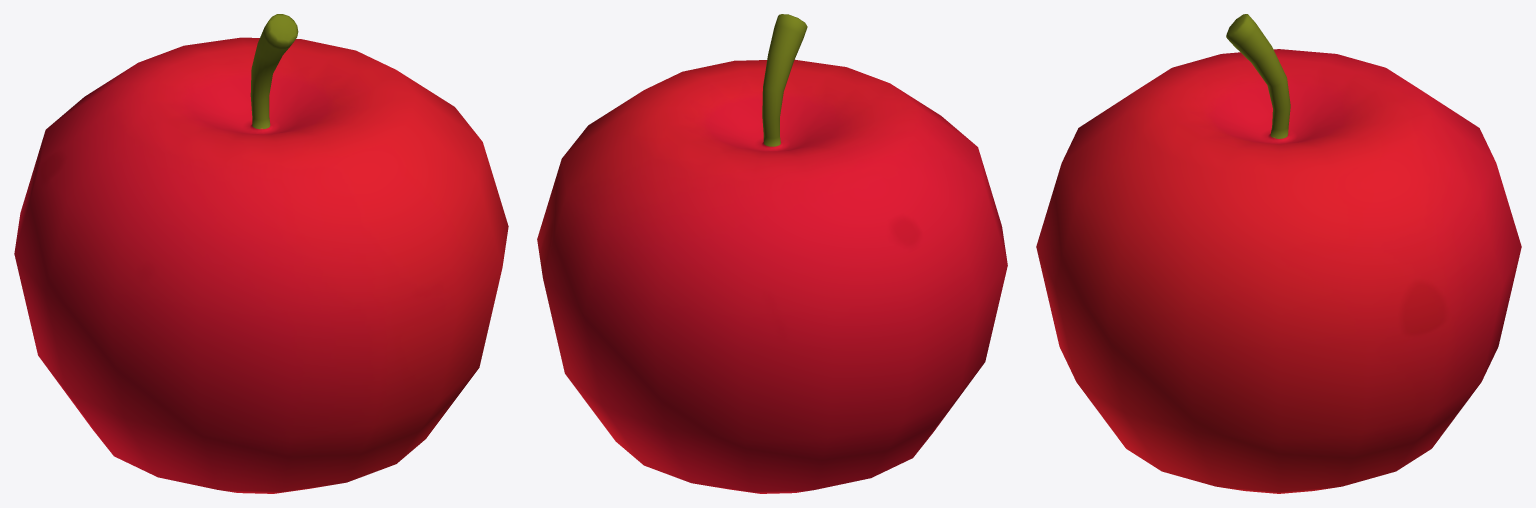
File: Apple.fbx
The picture shows the model from 3 angles, left to right: view 1: azimuth 30°, elevation 25°; view 2: azimuth 150°, elevation 25°; view 3: azimuth 270°, elevation 25°; orthographic projection. The views are drawn at different scales.
Visible parts, largest first — view 1: Apple; view 2: Apple; view 3: Apple.
Part boxes in pixels (x1,y1,x2,y2): Apple: (14, 14, 508, 493); Apple: (537, 14, 1007, 493); Apple: (1036, 14, 1521, 493).
Size of the model in its own units: 256 by 256 by 256.
1 material, 1 textured.
